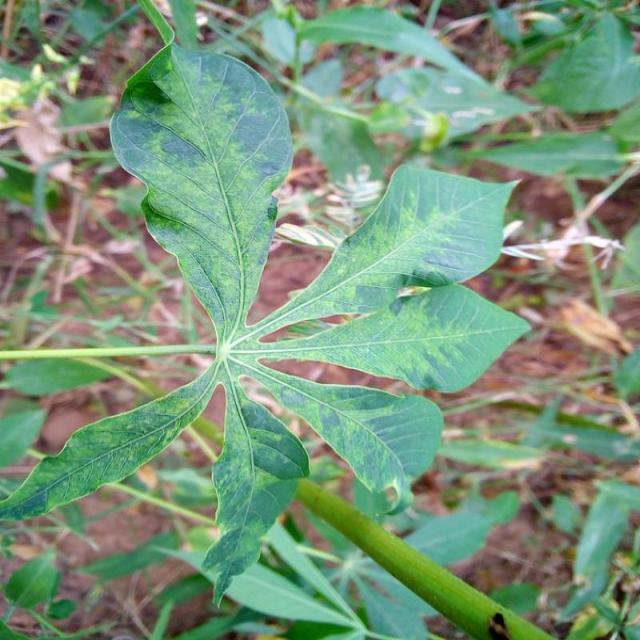cassava leaf: (1, 34, 530, 606), (108, 38, 294, 340)
